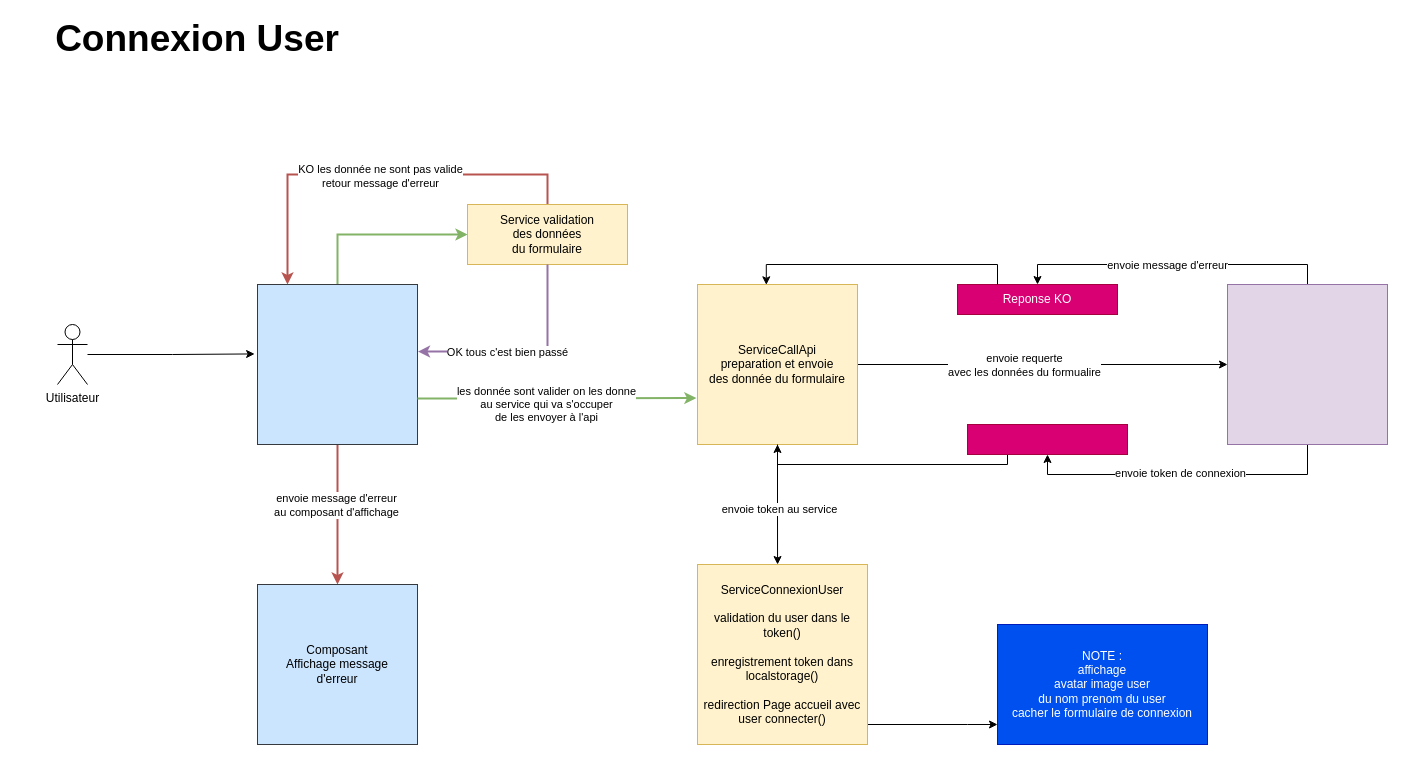
This 1405x762 diagram has some shape labels left out. The shapes that lost their labels are listed below. From the top down, each one's centre as x and y in pixels, then its label:
At (x=337, y=364): "Composant Formulaire de connexion - email - password".
At (x=1307, y=364): "Api".
At (x=1047, y=439): "Reponse OK".
